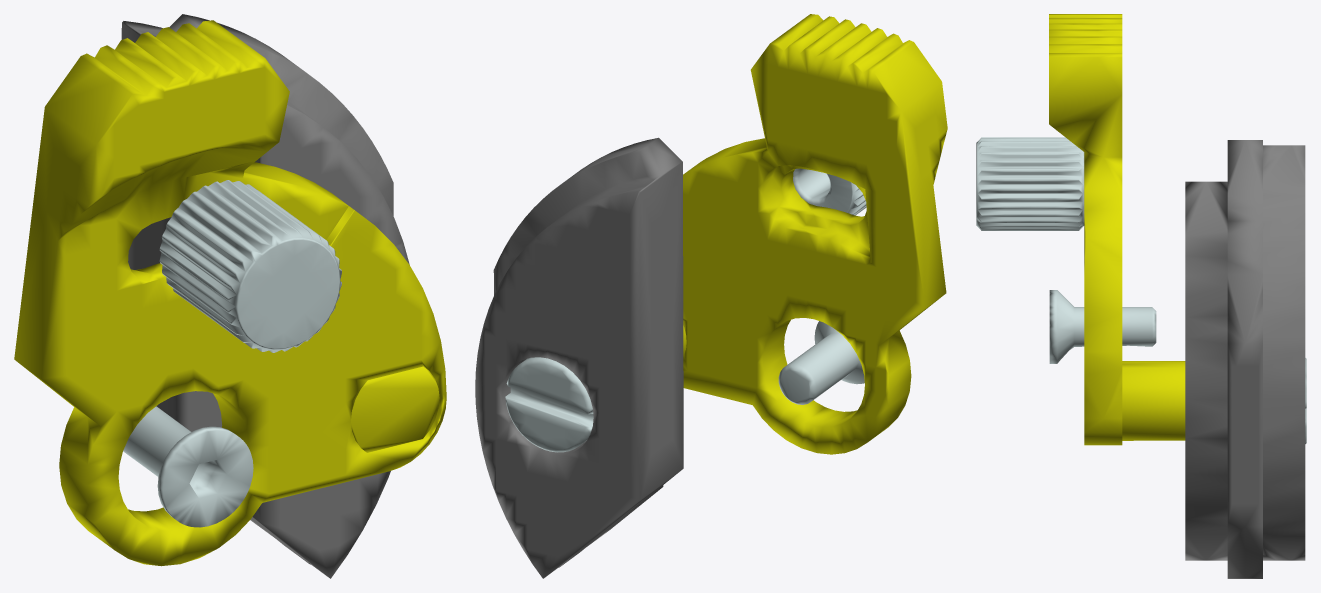
Rendered from bennettinsert_left_metal_deco.obj.
3 renders of one model, left to right at view 1: azimuth 30°, elevation 25°; view 2: azimuth 150°, elevation 25°; view 3: azimuth 270°, elevation 25°, orthographic. The views are drawn at different scales.
Bounding box in the file's own units: 27.83 × 38.01 × 24.75.
